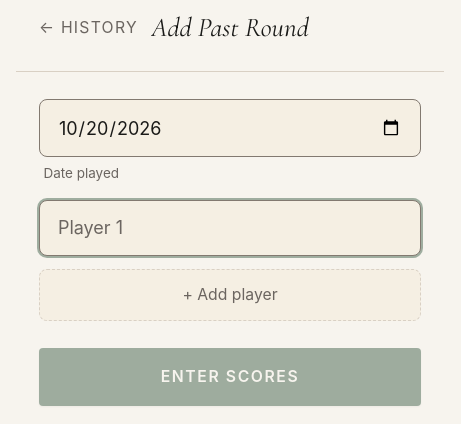
Test: Setup - courses load and the date field (#99) › clearing the date disables the start button with a hint, instead of throwing on tap
Type "Ann" into the field named "Player 1 name". click: (230, 228)
box: [39,200,421,256]
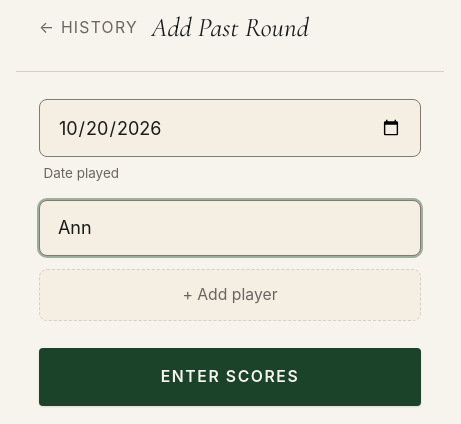
Result: the button "Enter scores" is enabled at [39,348,421,406]
Clear the date field named "Date played". click: (230, 128)
box: [39,99,421,157]
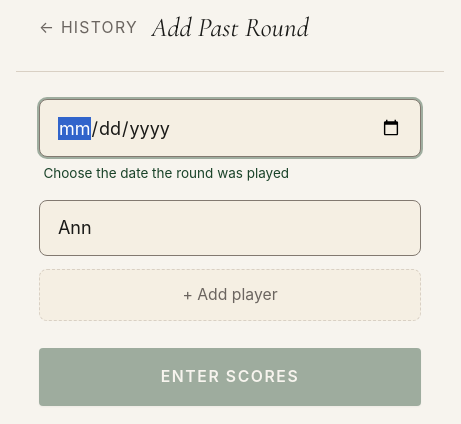
Result: the button "Enter scores" is disabled at [39,348,421,406]
Result: the text "Choose the date the round was played" is shown at [43,165,289,181]
Type "2026-08-01" into the date field named "Date played". click: (230, 128)
box: [39,99,421,157]
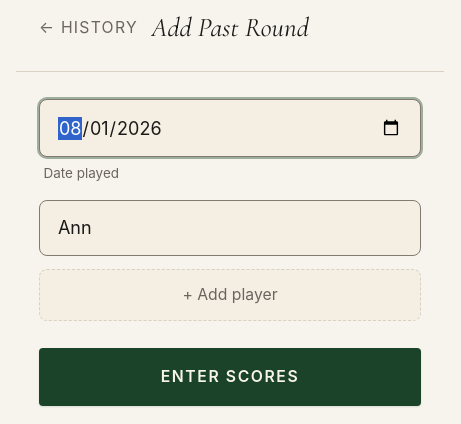
Result: the button "Enter scores" is enabled at [39,348,421,406]
